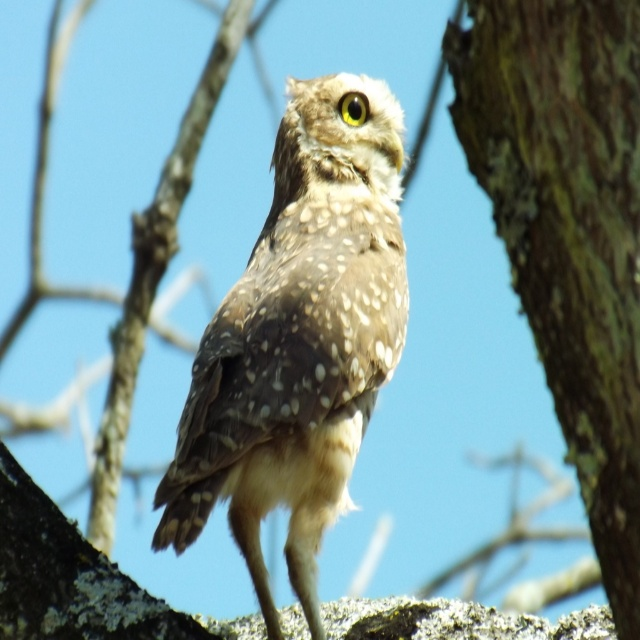Owl: (149, 68, 410, 639)
